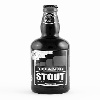beer: (30, 2, 74, 100)
